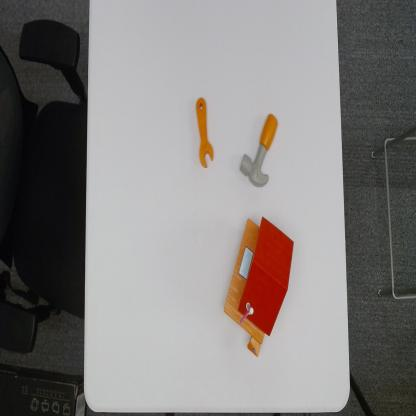Hammer: (239, 112, 279, 190)
House: (223, 213, 294, 357)
Screwdriver: (194, 93, 216, 170)
